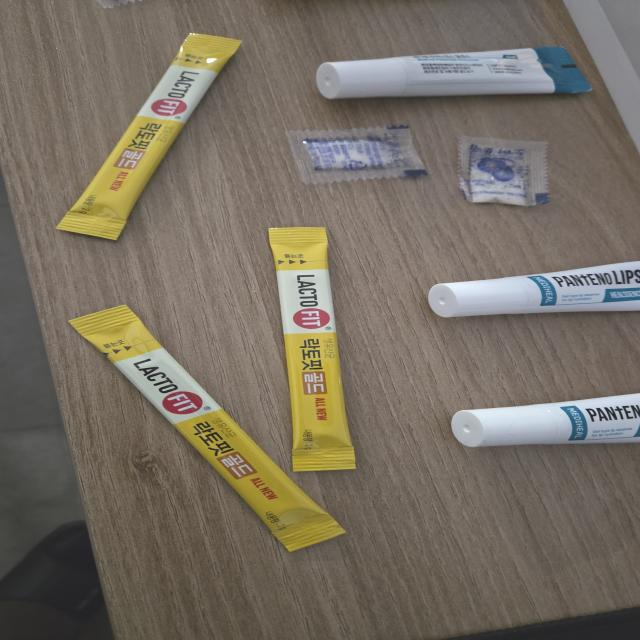lacto: (57, 304, 357, 553), (45, 20, 247, 242), (264, 219, 360, 477)
lib: (310, 43, 602, 102), (418, 251, 640, 321), (439, 393, 640, 452)
salt: (283, 124, 430, 186), (446, 134, 554, 214)
